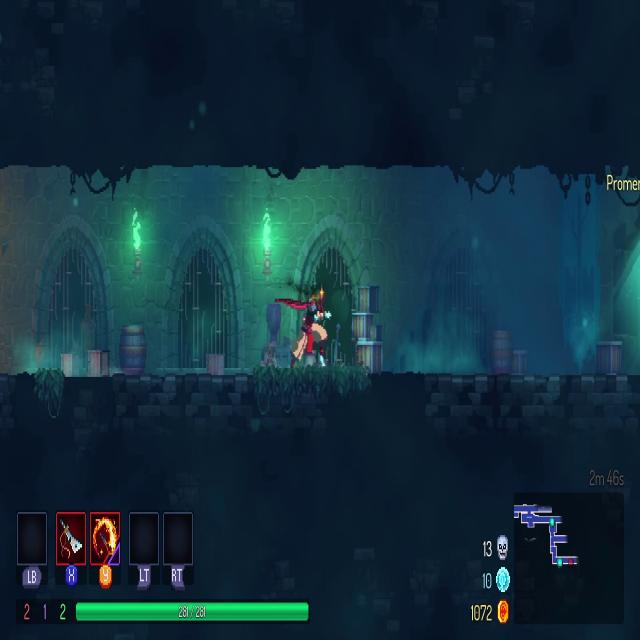agents: (289, 289, 330, 371)
door_nextLevel: (594, 163, 640, 376), (619, 208, 640, 372)
